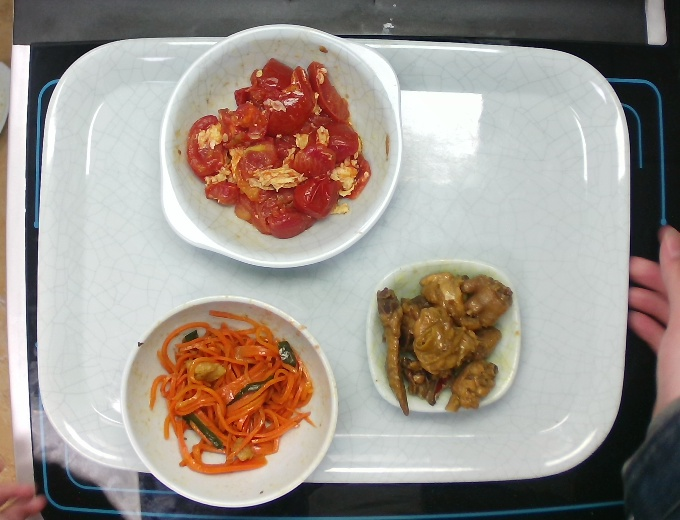JYsf-Fan_Wan: (116, 291, 342, 513)
JYsf-Shuang_Er_Wan: (154, 21, 410, 276)
JYsf-Si_Fang_Die: (362, 255, 527, 419)
